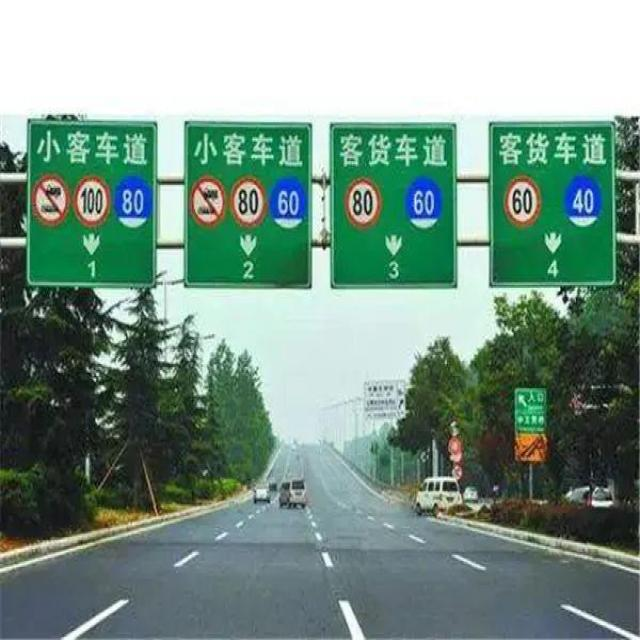speed limit 100: (71, 175, 111, 228)
speed limit 40: (564, 174, 604, 228)
speed limit 60: (501, 176, 542, 230), (268, 177, 308, 231), (405, 178, 444, 231)
speed limit 80: (113, 175, 152, 231), (343, 179, 383, 229), (230, 177, 268, 229)
